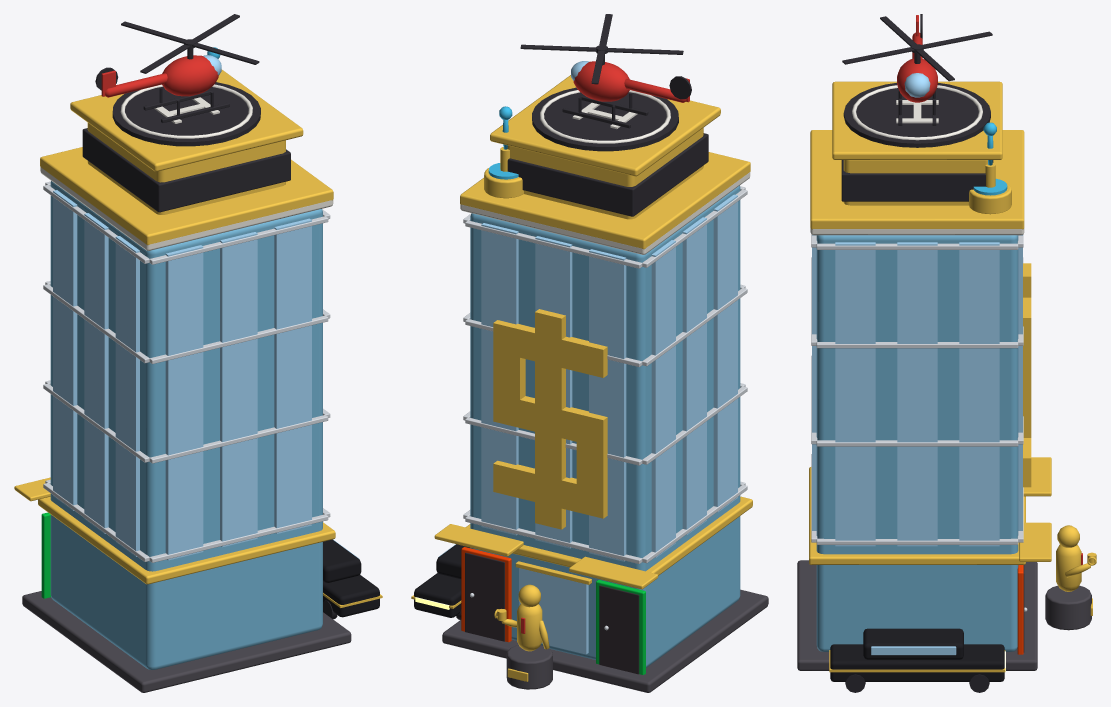
File: building_management_office_t3.glb
The picture shows the model from 3 angles, left to right: view 1: azimuth 30°, elevation 25°; view 2: azimuth 150°, elevation 25°; view 3: azimuth 270°, elevation 25°; orthographic projection.
Parts seen in each view (by area): view 1: Tower, Strip10, Strip11, Strip12, TowerRoof.Lip, Plinth, Strip20, Strip21, Strip22, Penthouse.Glass, Penthouse.Roof, Helipad (+19 smaller); view 2: Tower, Strip00, TowerRoof.Lip, Strip02, Strip20, Strip21, Strip22, Plinth, Penthouse.Glass, Penthouse.Roof, Helipad, Dollar.$.005 (+33 smaller); view 3: Tower, Strip30, Strip31, Strip32, TowerRoof.Lip, Helipad, Penthouse.Roof, Limo.Body, Plinth, Penthouse.Glass, Cornice, Penthouse (+22 smaller).
Part boxes in pixels (x1=…): Tower: x1=50, y1=181, x2=322, y2=669; Strip10: x1=165, y1=245, x2=203, y2=560; Strip11: x1=220, y1=232, x2=257, y2=547; Strip12: x1=274, y1=218, x2=311, y2=533; TowerRoof.Lip: x1=40, y1=147, x2=333, y2=245; Plinth: x1=22, y1=591, x2=351, y2=692; Strip20: x1=115, y1=236, x2=139, y2=556; Strip21: x1=84, y1=213, x2=108, y2=533; Strip22: x1=53, y1=190, x2=77, y2=510; Penthouse.Glass: x1=82, y1=128, x2=290, y2=212; Penthouse.Roof: x1=70, y1=69, x2=303, y2=171; Helipad: x1=112, y1=82, x2=260, y2=146; Tower: x1=470, y1=185, x2=740, y2=667; Strip00: x1=589, y1=249, x2=626, y2=561; TowerRoof.Lip: x1=460, y1=152, x2=750, y2=249; Strip02: x1=481, y1=223, x2=518, y2=535; Strip20: x1=713, y1=194, x2=737, y2=512; Strip21: x1=682, y1=217, x2=706, y2=535; Strip22: x1=651, y1=240, x2=675, y2=557; Plinth: x1=442, y1=589, x2=768, y2=692; Penthouse.Glass: x1=507, y1=133, x2=708, y2=216; Penthouse.Roof: x1=490, y1=75, x2=720, y2=176; Helipad: x1=532, y1=87, x2=678, y2=151; Dollar.$.005: x1=535, y1=309, x2=565, y2=529; Tower: x1=816, y1=235, x2=1018, y2=651; Strip30: x1=835, y1=242, x2=875, y2=546; Strip31: x1=897, y1=242, x2=937, y2=546; Strip32: x1=959, y1=242, x2=999, y2=546; TowerRoof.Lip: x1=810, y1=130, x2=1024, y2=229; Helipad: x1=843, y1=83, x2=990, y2=147; Penthouse.Roof: x1=832, y1=81, x2=1002, y2=159; Limo.Body: x1=830, y1=644, x2=1004, y2=681; Plinth: x1=797, y1=560, x2=1037, y2=670; Penthouse.Glass: x1=841, y1=160, x2=993, y2=201; Cornice: x1=809, y1=467, x2=1025, y2=564; Penthouse: x1=843, y1=160, x2=987, y2=205.
Size of the model in its own units: 3.78 by 8.2 by 3.86.
